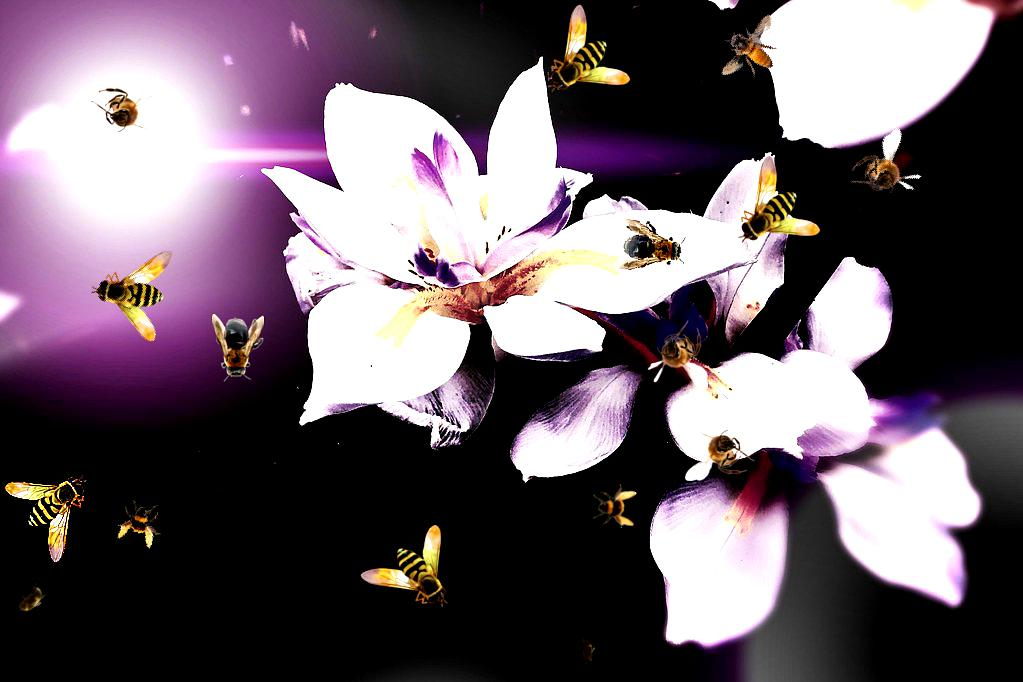Bee: (87, 228, 209, 350), (839, 127, 932, 217), (738, 155, 820, 243), (360, 525, 448, 607), (5, 475, 87, 563), (548, 4, 630, 92), (706, 12, 794, 91), (616, 217, 690, 277), (685, 420, 755, 481), (647, 320, 708, 390), (91, 81, 161, 142), (212, 314, 264, 382), (114, 497, 168, 551), (7, 578, 53, 622), (593, 484, 637, 528), (575, 632, 597, 672)
